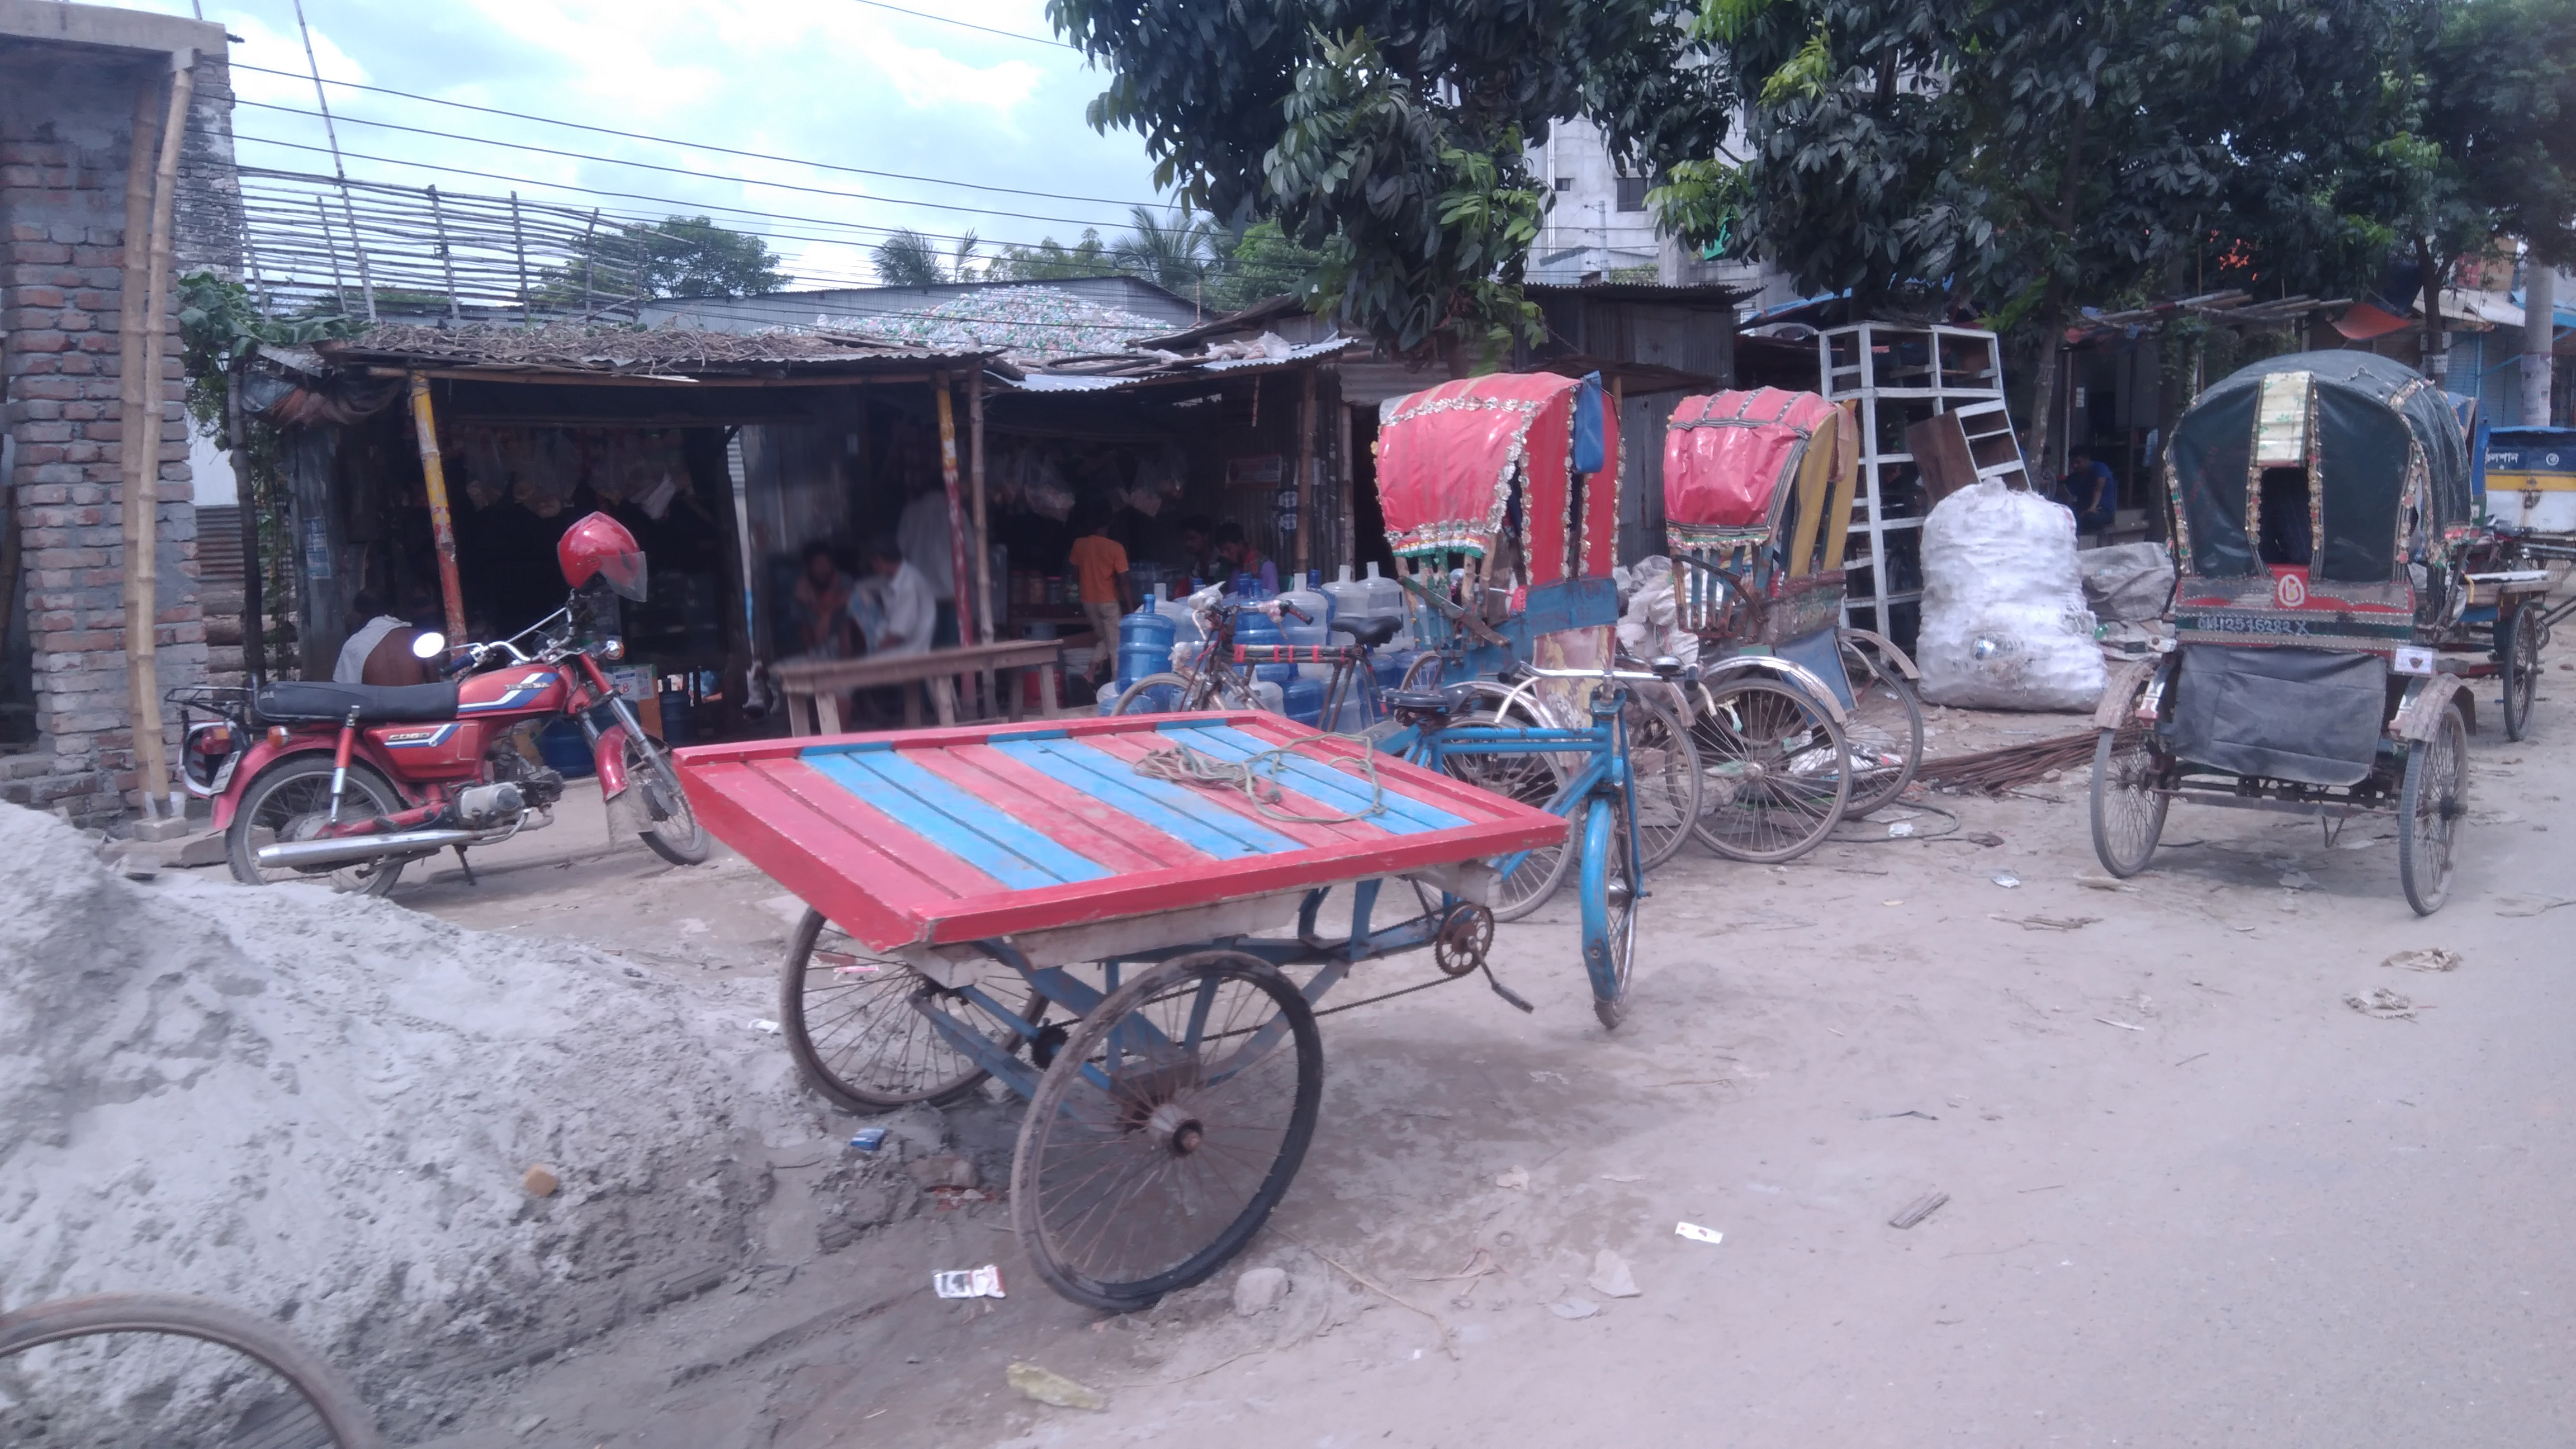bike: (205, 524, 695, 906)
rickshaw: (1131, 366, 1709, 950), (2063, 317, 2539, 939), (1591, 345, 1946, 856)
van: (646, 660, 1716, 1306)
